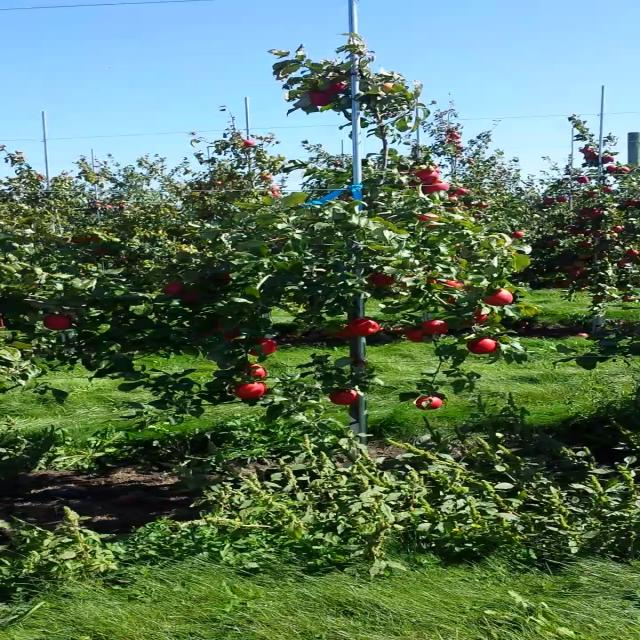apple: (346, 318, 378, 336), (234, 381, 266, 399), (466, 338, 497, 356), (483, 288, 513, 306), (250, 338, 276, 356), (329, 389, 358, 405), (44, 315, 72, 331), (421, 320, 448, 336), (410, 170, 438, 184), (370, 272, 396, 286), (417, 396, 443, 410), (419, 213, 440, 229), (423, 182, 449, 194), (311, 92, 333, 106), (323, 82, 348, 94), (163, 282, 183, 296), (250, 364, 268, 378), (406, 331, 426, 343), (181, 292, 199, 304), (336, 330, 356, 340), (224, 328, 239, 340), (475, 309, 487, 323), (444, 280, 464, 288), (381, 83, 396, 92), (427, 279, 438, 284), (446, 298, 455, 303)
